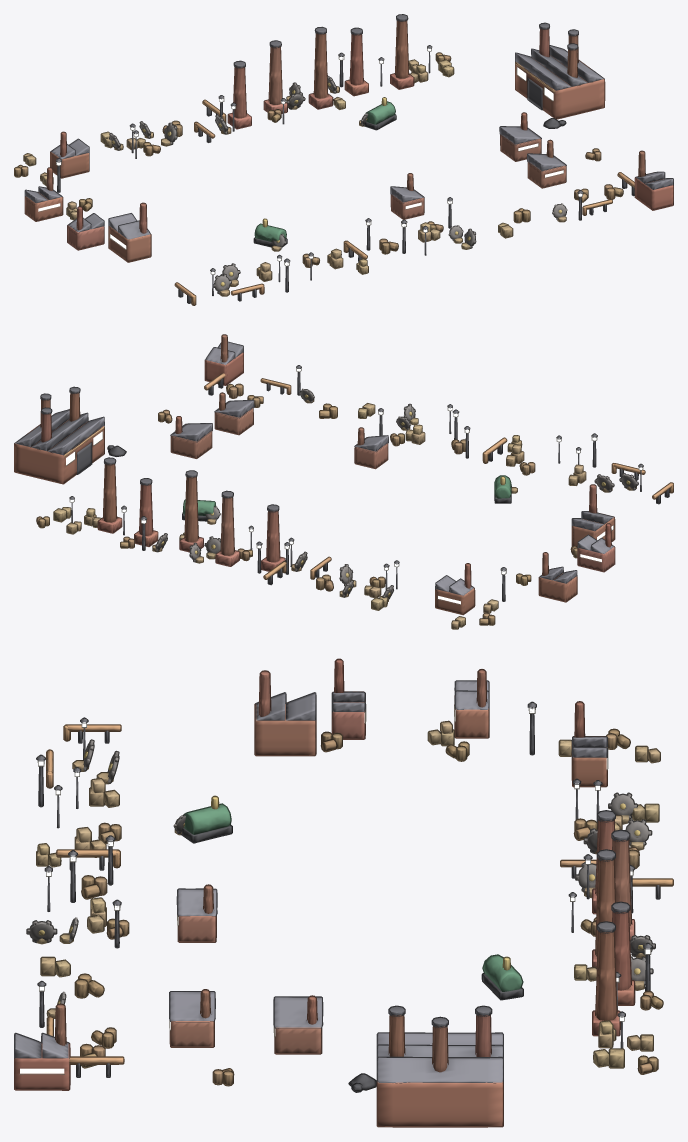
The model's file is foundry_row.glb.
3 views of the same model, one above another, from view 1: azimuth 30°, elevation 25°; view 2: azimuth 150°, elevation 25°; view 3: azimuth 270°, elevation 25° (orthographic). The views are drawn at different scales.
Parts seen in each view (by area): view 1: Baked_matte, Baked_matte_Outline, Baked_metal, Baked_metal_Outline, Baked_glow_ffcb7b; view 2: Baked_matte, Baked_matte_Outline, Baked_metal, Baked_metal_Outline; view 3: Baked_matte, Baked_matte_Outline, Baked_metal, Baked_metal_Outline.
Boxes of the visible parts, x1,y1,x2,y2 form: Baked_matte: [14, 20, 673, 295]; Baked_matte_Outline: [14, 21, 673, 296]; Baked_metal: [56, 15, 634, 304]; Baked_metal_Outline: [55, 14, 634, 305]; Baked_glow_ffcb7b: [38, 67, 563, 248]; Baked_matte: [14, 335, 636, 628]; Baked_matte_Outline: [14, 334, 636, 629]; Baked_metal: [41, 365, 673, 601]; Baked_metal_Outline: [40, 365, 673, 601]; Baked_matte: [15, 659, 662, 1126]; Baked_matte_Outline: [14, 658, 663, 1127]; Baked_metal: [27, 703, 672, 1076]; Baked_metal_Outline: [26, 701, 673, 1077].
Size of the model in its own units: 40.31 by 5.44 by 27.42.
